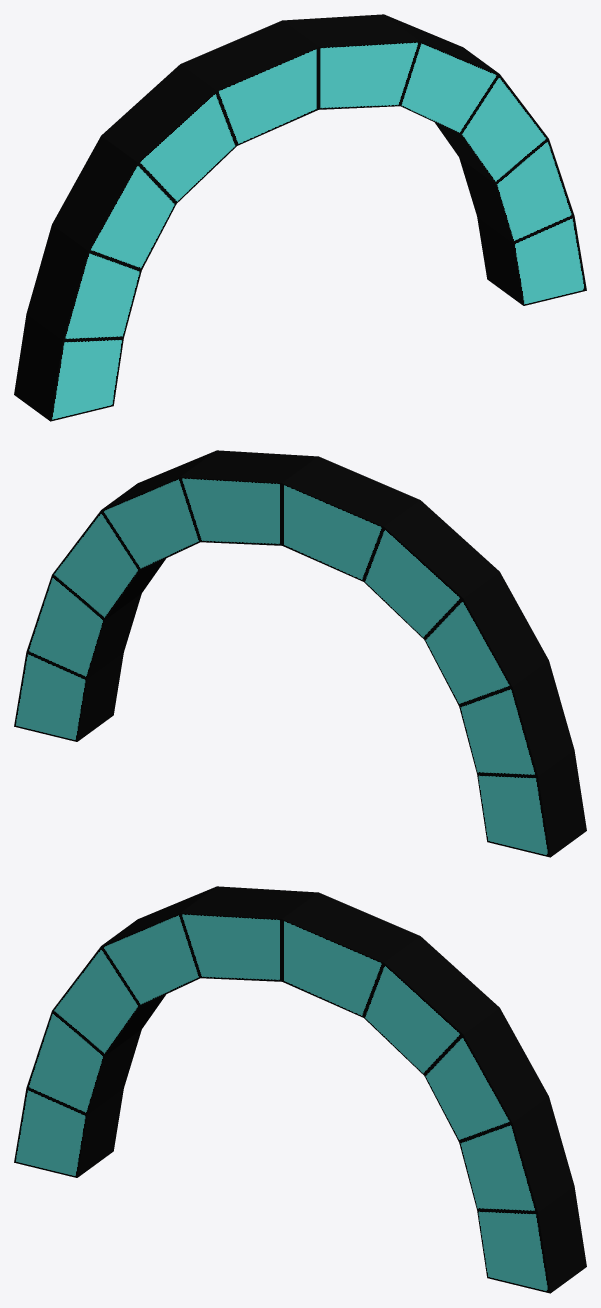
File: goal.obj
3 renders of one model, top to bottom at view 1: azimuth 30°, elevation 25°; view 2: azimuth 150°, elevation 25°; view 3: azimuth 330°, elevation 25°, orthographic.
Parts seen in each view (by area): view 1: 立方体_立方体.001; view 2: 立方体_立方体.001; view 3: 立方体_立方体.001.
Boxes of the visible parts, x1,y1,x2,y2 form: 立方体_立方体.001: (14,14,586,421); 立方体_立方体.001: (14,450,586,857); 立方体_立方体.001: (14,886,586,1293).
Size of the model in its own units: 8.48 by 4.67 by 1.
1 material, 1 textured.
